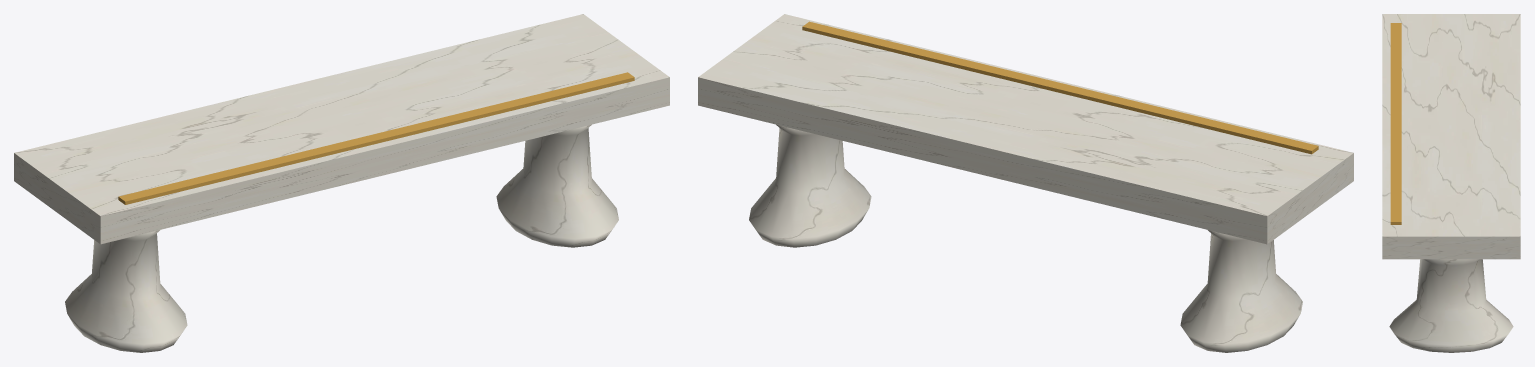
The model's file is garden-bench.glb.
3 renders of one model, left to right at view 1: azimuth 30°, elevation 25°; view 2: azimuth 150°, elevation 25°; view 3: azimuth 270°, elevation 25°, orthographic. The views are drawn at different scales.
Parts seen in each view (by area): view 1: garden-bench_MeshPhysicalMaterial, garden-bench_MeshStandardMaterial; view 2: garden-bench_MeshPhysicalMaterial, garden-bench_MeshStandardMaterial; view 3: garden-bench_MeshPhysicalMaterial, garden-bench_MeshStandardMaterial.
Boxes of the visible parts, left/top/right/bottom form: garden-bench_MeshPhysicalMaterial: left=14, top=14, right=669, bottom=352; garden-bench_MeshStandardMaterial: left=118, top=72, right=634, bottom=204; garden-bench_MeshPhysicalMaterial: left=698, top=14, right=1353, bottom=352; garden-bench_MeshStandardMaterial: left=802, top=21, right=1318, bottom=154; garden-bench_MeshPhysicalMaterial: left=1382, top=14, right=1520, bottom=352; garden-bench_MeshStandardMaterial: left=1390, top=23, right=1401, bottom=224.
Bounding box in the file's own units: 1.9 × 0.516 × 0.5.
Materials: 2 (1 with a texture image).
